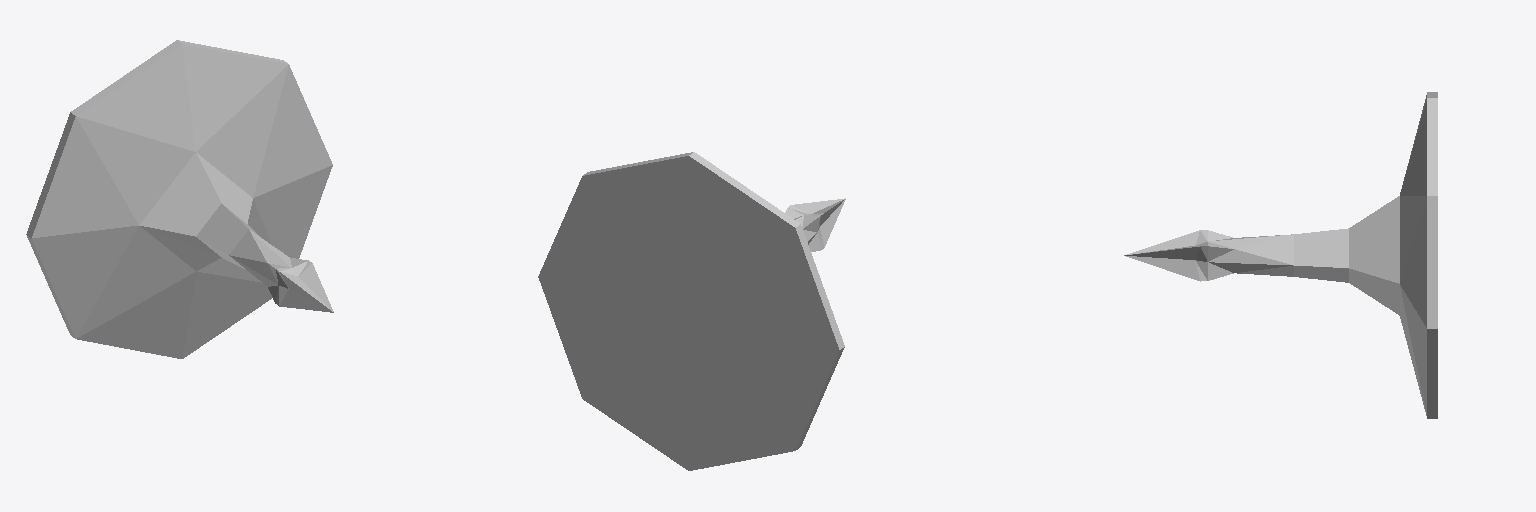
The model's file is rix_flagplat.obj.
3 renders of one model, left to right at view 1: azimuth 30°, elevation 25°; view 2: azimuth 150°, elevation 25°; view 3: azimuth 270°, elevation 25°, orthographic.
Parts seen in each view (by area): view 1: frm-fuselg6; view 2: frm-fuselg6; view 3: frm-fuselg6.
Boxes of the visible parts, box(x1,y1,x2,y2) form: frm-fuselg6: box(26, 40, 333, 358); frm-fuselg6: box(538, 152, 845, 470); frm-fuselg6: box(1124, 92, 1437, 418).
Size of the model in its own units: 4.28 by 4.25 by 3.85.